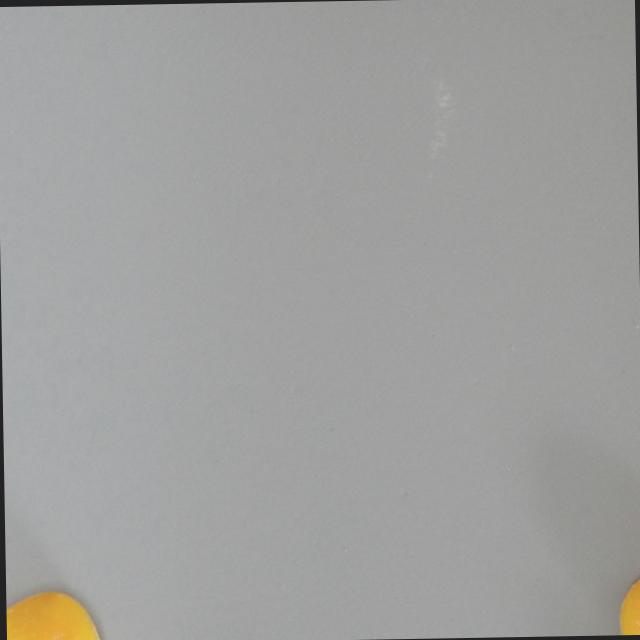no_canjicado: (5, 592, 102, 640)
pelicula: (616, 569, 640, 635)
